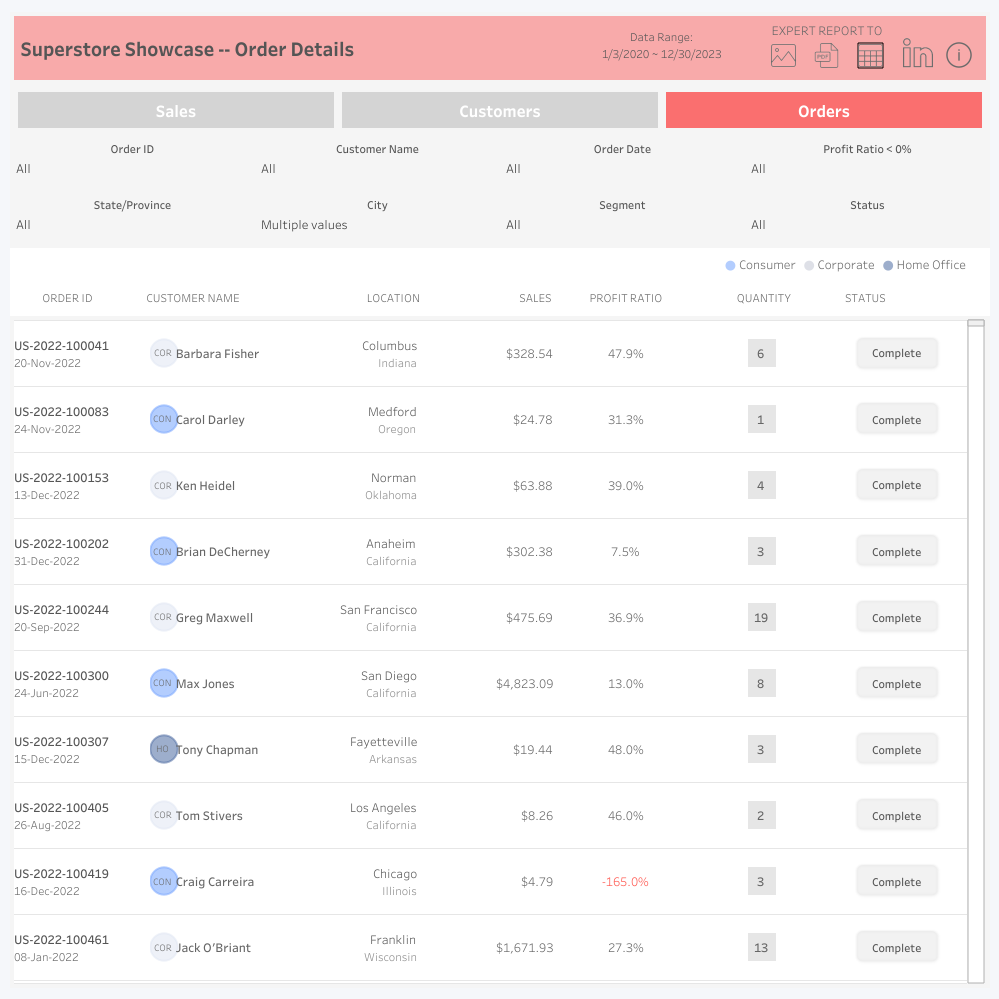

The dashboard page shown, as its layout file describes it:
{"tool":"tableau","page":{"name":"Orders","canvas":[1000,1000],"ordinal":1},"visuals":[{"type":"text","box":[10,12,980,72]},{"type":"text","box":[752,20,150,19]},{"type":"worksheet","title":"Last Updated","mark":"Automatic","box":[541,22,242,47]},{"type":"image","param":"Image/linkedin (1).png","box":[903,38,30,30]},{"type":"worksheet","title":"Info button","mark":"Shape","box":[943,39,30,30]},{"type":"dashboard-object","box":[771,43,25,25]},{"type":"dashboard-object","box":[814,43,25,25]},{"type":"dashboard-object","box":[858,43,25,25]},{"type":"dashboard-object","box":[14,88,324,44]},{"type":"dashboard-object","box":[338,88,324,44]},{"type":"dashboard-object","box":[662,88,324,44]},{"type":"filter","title":"Table","param":"[federated.1rhh46y0eyurxd11t0t440ltmskl (copy)].[none:Order ID:nk]","box":[10,136,245,52]},{"type":"filter","title":"Table","param":"[federated.1rhh46y0eyurxd11t0t440ltmskl (copy)].[none:Customer Name:nk]","box":[255,136,245,52]},{"type":"filter","title":"Table","param":"[federated.1rhh46y0eyurxd11t0t440ltmskl (copy)].[none:Order Date:ok]","box":[500,136,245,52]},{"type":"filter","title":"Table","param":"[federated.1rhh46y0eyurxd11t0t440ltmskl (copy)].[usr:Profit Ratio (Table Colour)","box":[745,136,245,52]},{"type":"filter","title":"Table","param":"[federated.1rhh46y0eyurxd11t0t440ltmskl (copy)].[none:State/Province:nk]","box":[10,188,245,52]},{"type":"filter","title":"Table","param":"[federated.1rhh46y0eyurxd11t0t440ltmskl (copy)].[none:City:nk]","box":[255,188,245,52]},{"type":"filter","title":"Table","param":"[federated.1rhh46y0eyurxd11t0t440ltmskl (copy)].[none:Segment:nk]","box":[500,188,245,52]},{"type":"filter","title":"Table","param":"[federated.1rhh46y0eyurxd11t0t440ltmskl (copy)].[none:Calculation_18642088093083","box":[745,188,245,52]},{"type":"blank","box":[10,240,691,30]},{"type":"text","box":[701,240,289,30]},{"type":"text","box":[10,270,115,38]},{"type":"text","box":[125,270,186,38]},{"type":"text","box":[311,270,165,38]},{"type":"text","box":[476,270,89,38]},{"type":"text","box":[565,270,117,38]},{"type":"text","box":[682,270,124,38]},{"type":"text","box":[806,270,103.5,38]},{"type":"blank","box":[909.5,270,80.5,38]},{"type":"worksheet","title":"Table","mark":"Circle","rows":["Order ID"],"cols":["Calculation_1864208809272696834","Calculation_1864208809544347679","Calculation_1864208809593409576","Calculation_1864208809545220131","Calculation_1864208809272696834","Calculation_1864208809272696834","Calculation_1864208809272696834","Calculation_1864208809272696834","Calculation_1864208809272696834","Calculation_1864208809272696834"],"box":[10,308,980,680]}]}

Visuals, with their boxes in screenshot pixels (x1, y1, x2, y2), scaled from the page's 1000x1000 canvas onto the 999x999 screenshot:
text: select_region(10, 12, 989, 84)
text: select_region(751, 20, 901, 39)
"Last Updated" worksheet: select_region(540, 22, 782, 69)
image: select_region(902, 38, 932, 68)
"Info button" worksheet (Shape marks): select_region(942, 39, 972, 69)
dashboard-object: select_region(770, 43, 795, 68)
dashboard-object: select_region(813, 43, 838, 68)
dashboard-object: select_region(857, 43, 882, 68)
dashboard-object: select_region(14, 88, 338, 132)
dashboard-object: select_region(338, 88, 661, 132)
dashboard-object: select_region(661, 88, 985, 132)
"Table" filter: select_region(10, 136, 255, 188)
"Table" filter: select_region(255, 136, 500, 188)
"Table" filter: select_region(500, 136, 744, 188)
"Table" filter: select_region(744, 136, 989, 188)
"Table" filter: select_region(10, 188, 255, 240)
"Table" filter: select_region(255, 188, 500, 240)
"Table" filter: select_region(500, 188, 744, 240)
"Table" filter: select_region(744, 188, 989, 240)
blank: select_region(10, 240, 700, 270)
text: select_region(700, 240, 989, 270)
text: select_region(10, 270, 125, 308)
text: select_region(125, 270, 311, 308)
text: select_region(311, 270, 476, 308)
text: select_region(476, 270, 564, 308)
text: select_region(564, 270, 681, 308)
text: select_region(681, 270, 805, 308)
text: select_region(805, 270, 909, 308)
blank: select_region(909, 270, 989, 308)
"Table" worksheet (Circle marks): select_region(10, 308, 989, 987)
